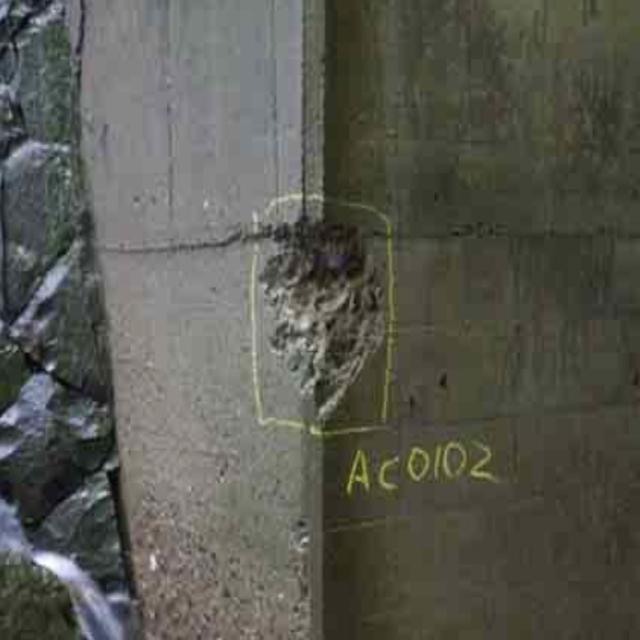spalling: (261, 214, 383, 424)
